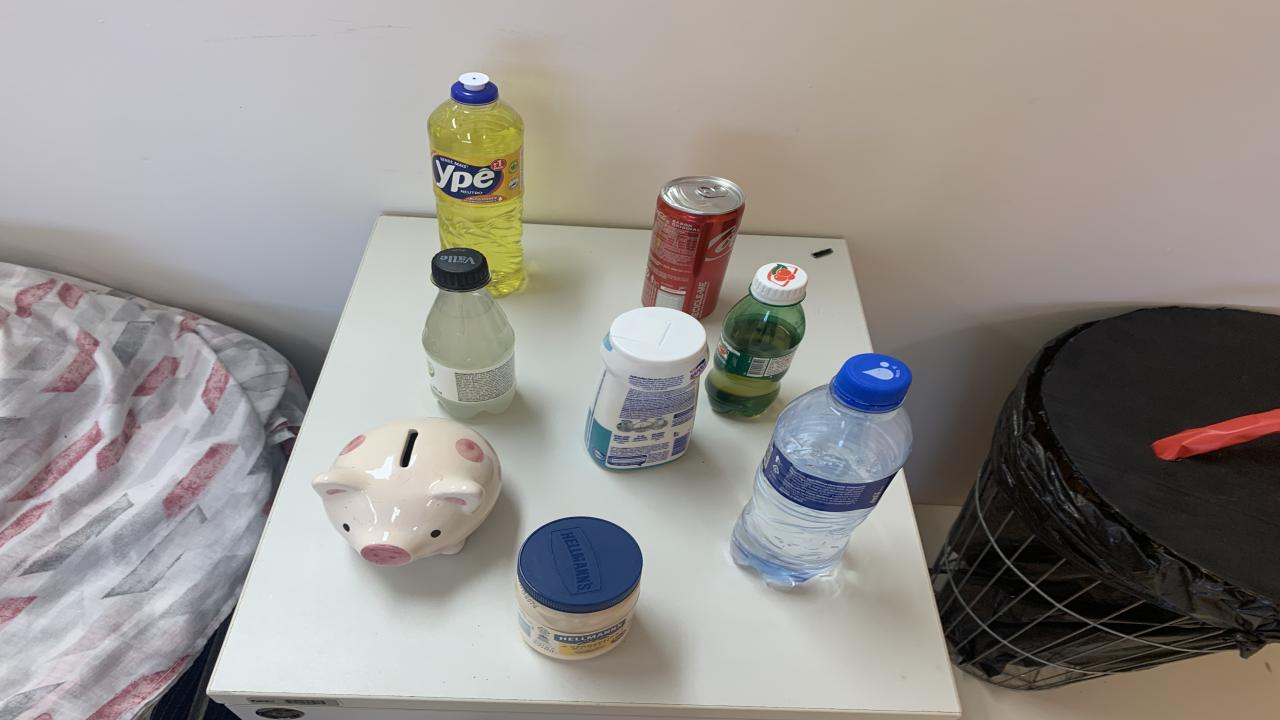Cleaner-Cleanup_Items: (585, 308, 708, 471)
Coke-Drinks: (642, 176, 745, 319)
Detergent-Cleanup_Items: (428, 73, 525, 296)
Guarana-Drinks: (705, 262, 808, 416)
Mayonnaise-Pantry_Items: (515, 518, 642, 660)
Pig_Safe-Miscellaneous: (312, 416, 502, 566)
Soda-Drinks: (422, 248, 515, 418)
Water_Bottle-Drinks: (732, 352, 912, 585)
